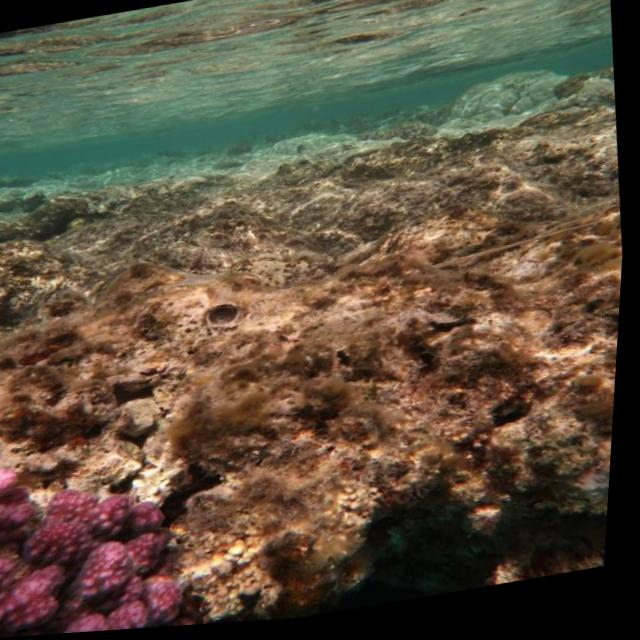Healthy Coral: (0, 428, 241, 639)
